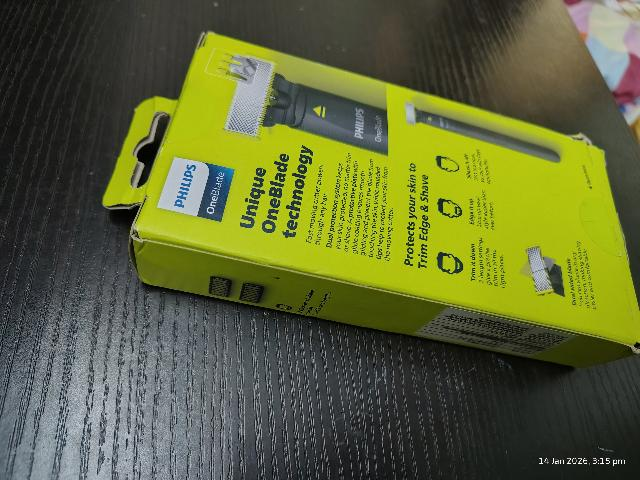phillips oneblade: (102, 28, 577, 352)
